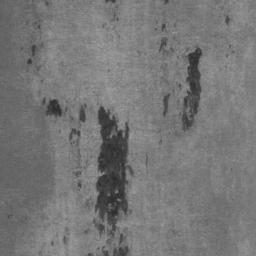Iron scale compression: (92, 108, 131, 256), (184, 49, 202, 131), (47, 100, 64, 117), (163, 94, 171, 116), (68, 129, 78, 146), (28, 44, 36, 64), (159, 35, 168, 51), (81, 107, 87, 122)
